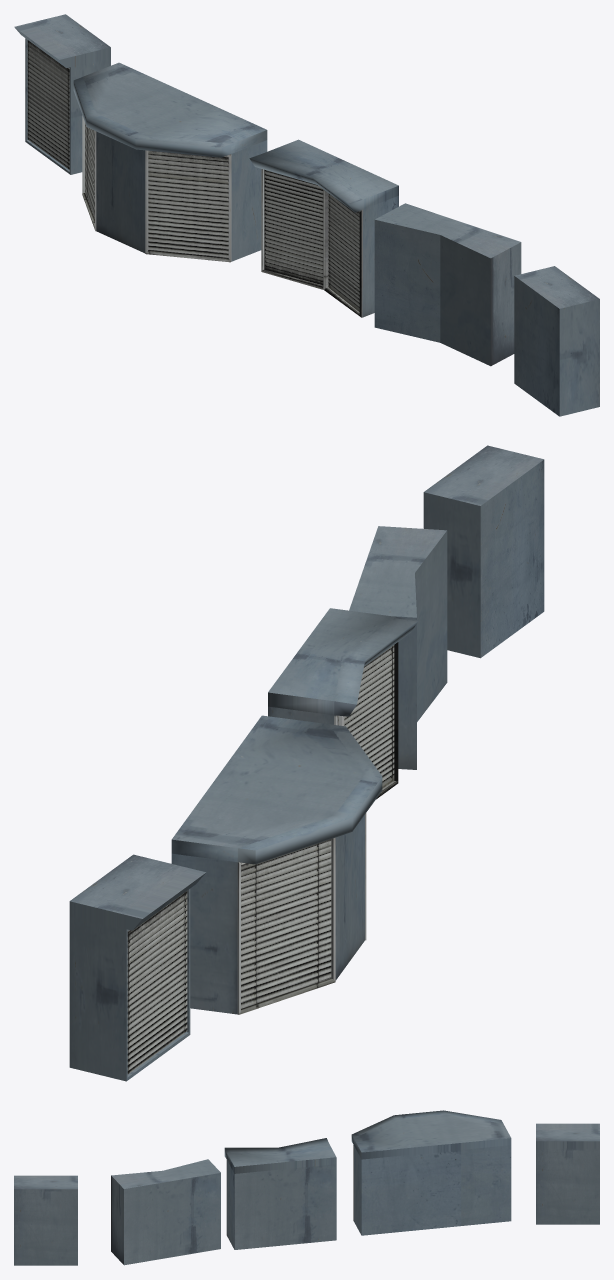
Rendered from shutters.fbx.
3 views of the same model, one above another, from view 1: azimuth 30°, elevation 25°; view 2: azimuth 150°, elevation 25°; view 3: azimuth 270°, elevation 25° (orthographic). The views are drawn at different scales.
Visible parts, largest first — view 1: Shutters3, Wall2, Shutters2, Wall, Shutters1; view 2: Shutters3, Shutters1, Wall, Shutters2, Wall2; view 3: Shutters3, Shutters2, Wall2, Shutters1, Wall.
Part boxes in pixels (x1,y1,x2,y2): Shutters3: (73,62,267,262); Wall2: (374,203,521,366); Shutters2: (249,139,398,317); Wall: (514,266,599,416); Shutters1: (14,14,110,174); Shutters3: (171,715,382,1014); Shutters1: (69,854,205,1081); Wall: (423,445,544,658); Shutters2: (268,608,418,799); Wall2: (349,526,447,769); Shutters3: (351,1110,511,1235); Shutters2: (224,1138,336,1249); Wall2: (111,1159,220,1265); Shutters1: (536,1123,599,1224); Wall: (14,1175,77,1265).
Size of the model in its own units: 977 by 527 by 3364.
Materials: 1 (1 with a texture image).
